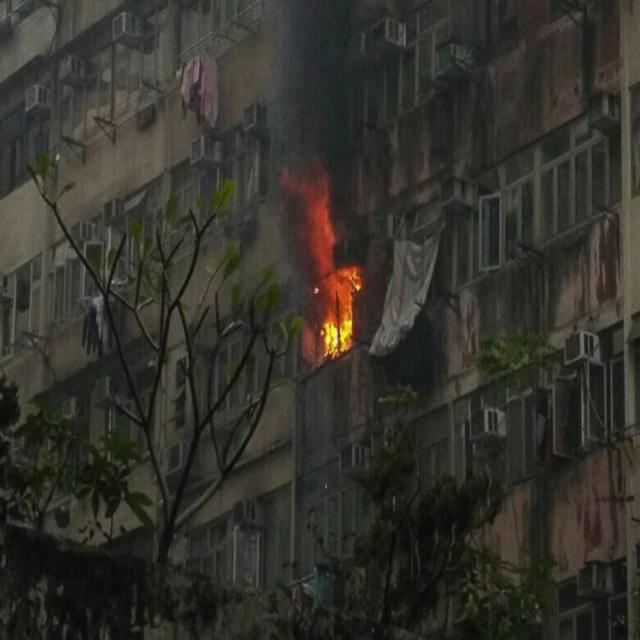fire: (299, 179, 354, 371)
